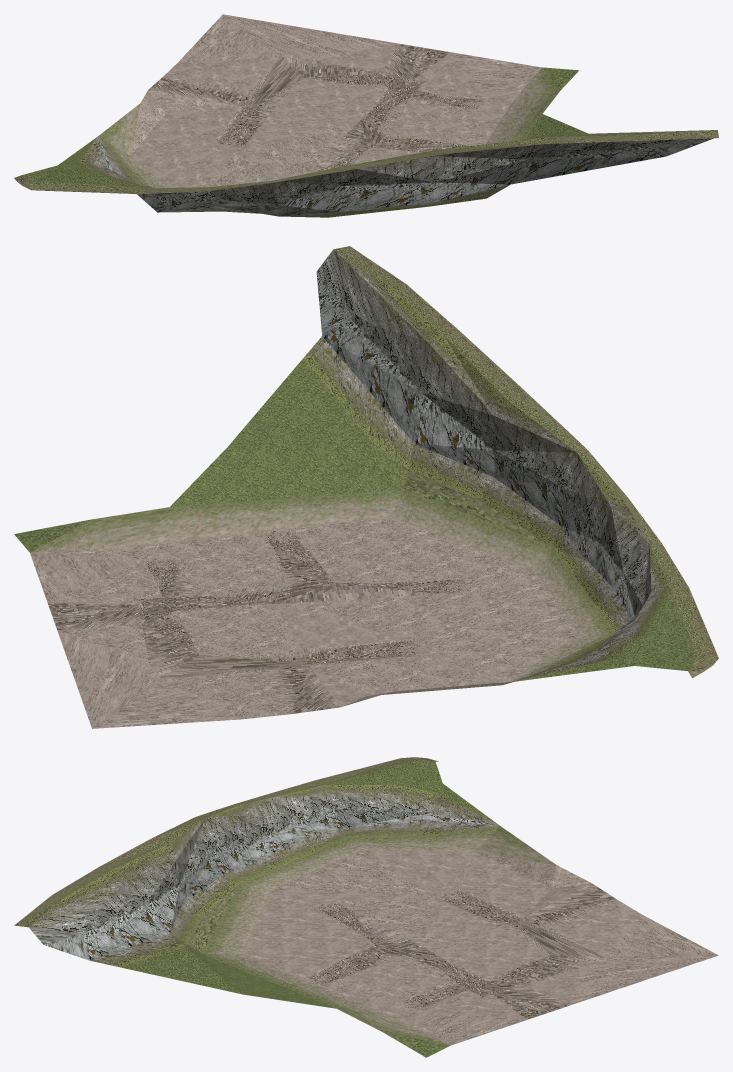
File: lodcs06.obj
3 views of the same model, one above another, from view 1: azimuth 30°, elevation 25°; view 2: azimuth 150°, elevation 25°; view 3: azimuth 270°, elevation 25° (orthographic). The views are drawn at different scales.
Parts seen in each view (by area): view 1: LODcs06; view 2: LODcs06; view 3: LODcs06.
Boxes of the visible parts, x1=… form: LODcs06: x1=14, y1=14, x2=718, y2=217; LODcs06: x1=14, y1=246, x2=718, y2=728; LODcs06: x1=14, y1=757, x2=718, y2=1057.
Bounding box in the file's own units: 133 × 23.19 × 144.
Materials: 14 (14 with a texture image).
